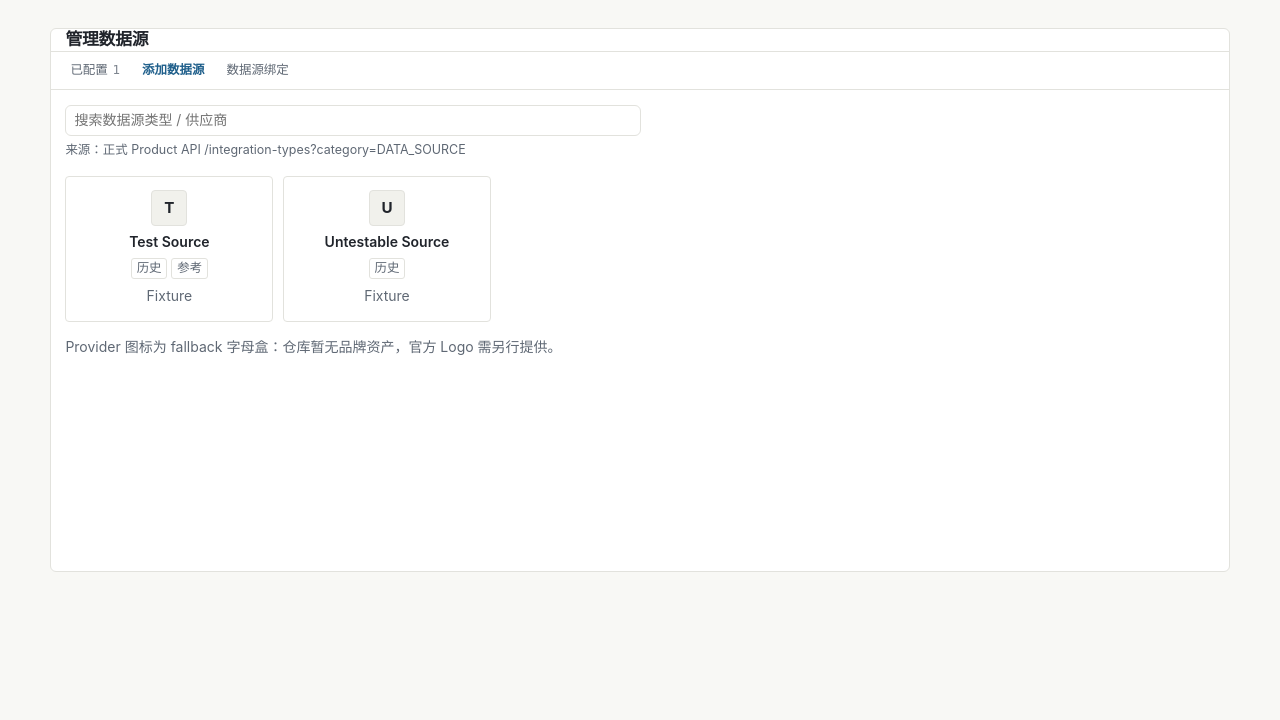
it: opens the configuration view for the created Integration
Step 1. Click the button "T Test Source 历史 参考 Fixture" → (169, 249), box [65,176,273,322]
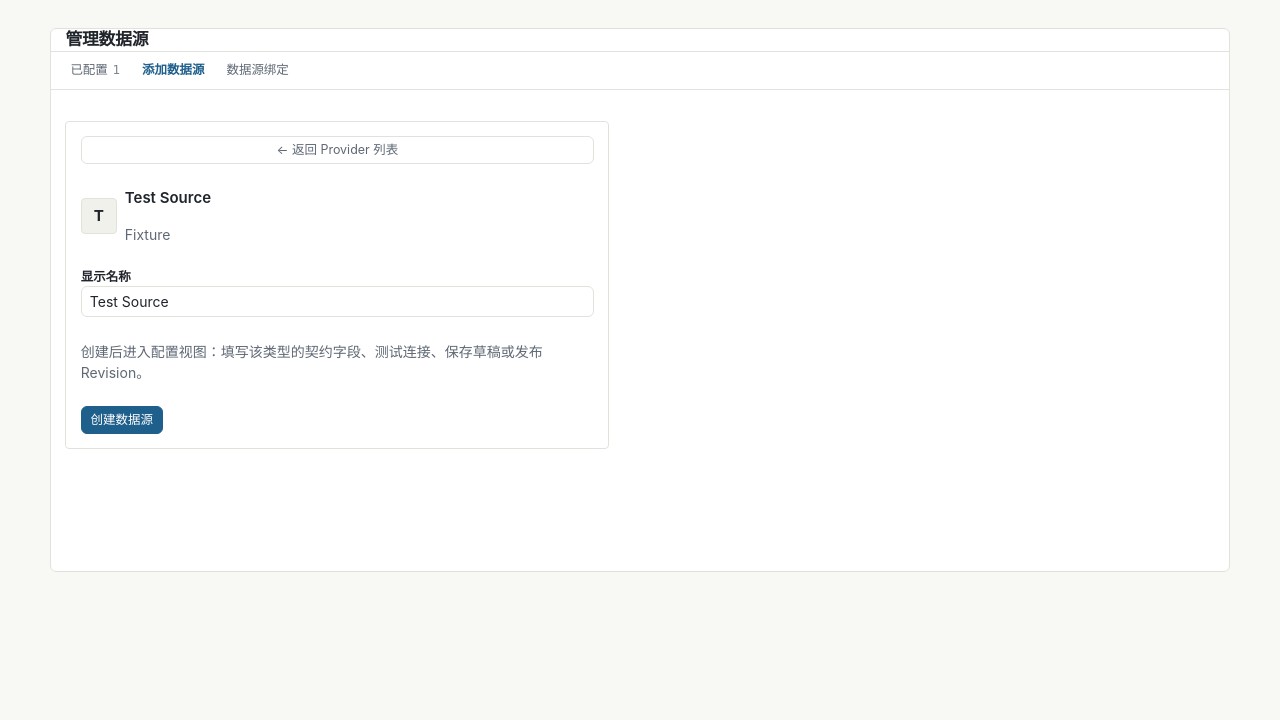
Step 2. Click the button "创建数据源" → (122, 420), box [81,406,163,434]
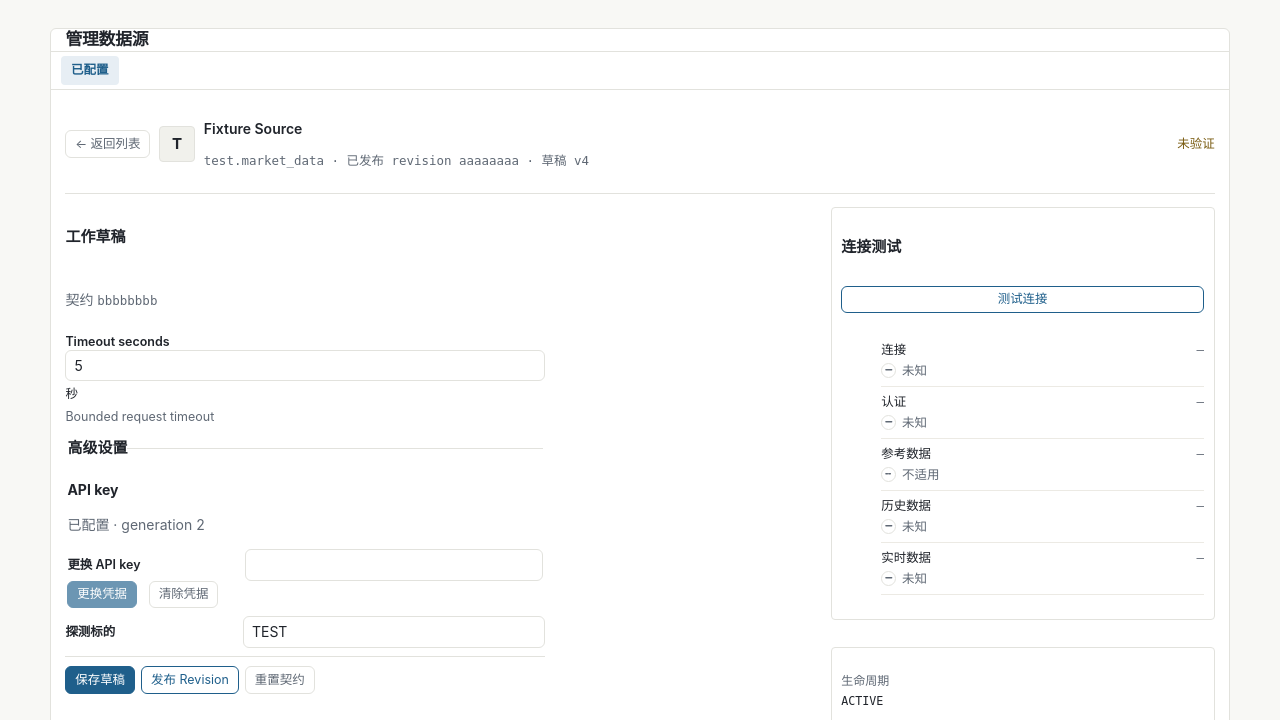
Expected: the button "保存草稿" is shown, [65,666,135,694]
Expected: the number field labelled "Timeout seconds" is shown, [65,350,545,381]
